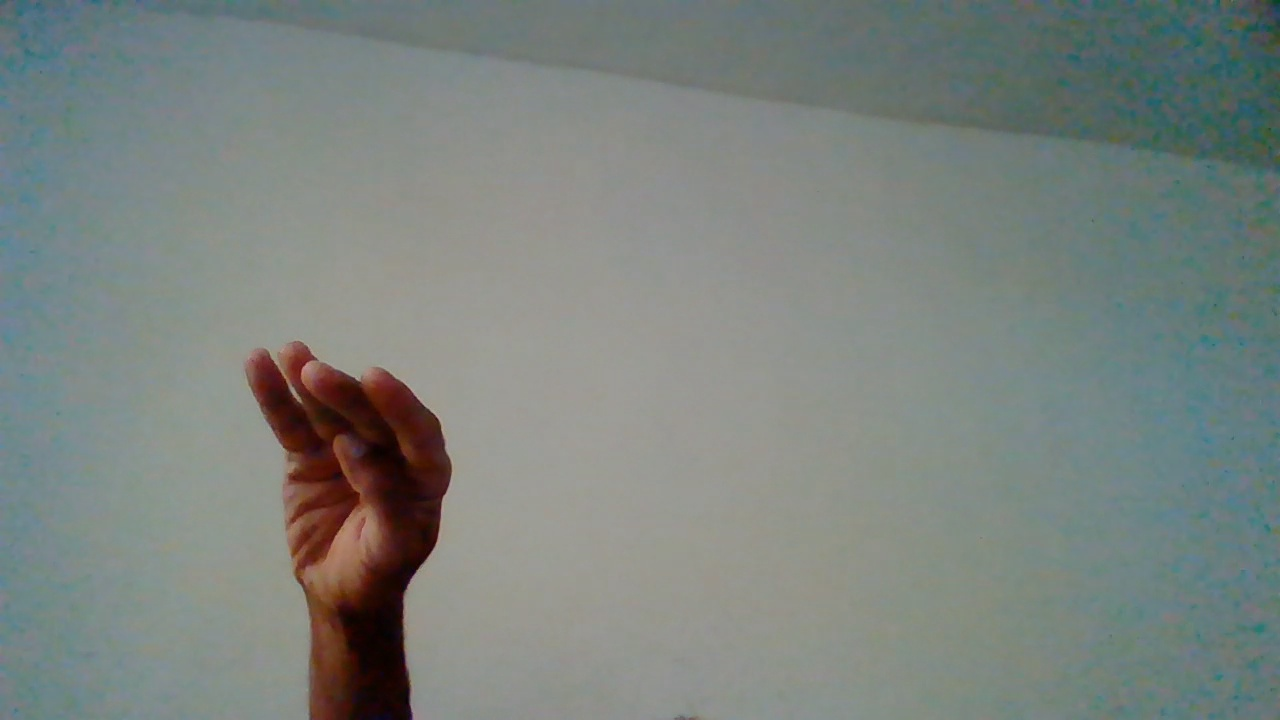me: (248, 341, 454, 695)
